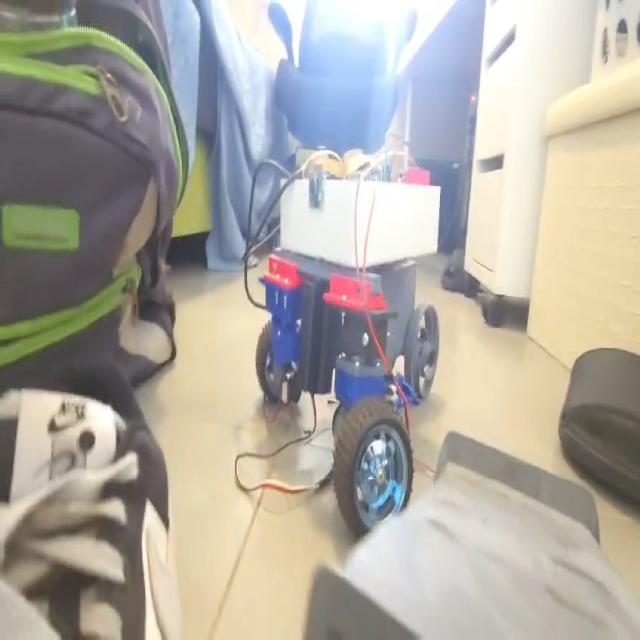Robot: (256, 151, 442, 544)
